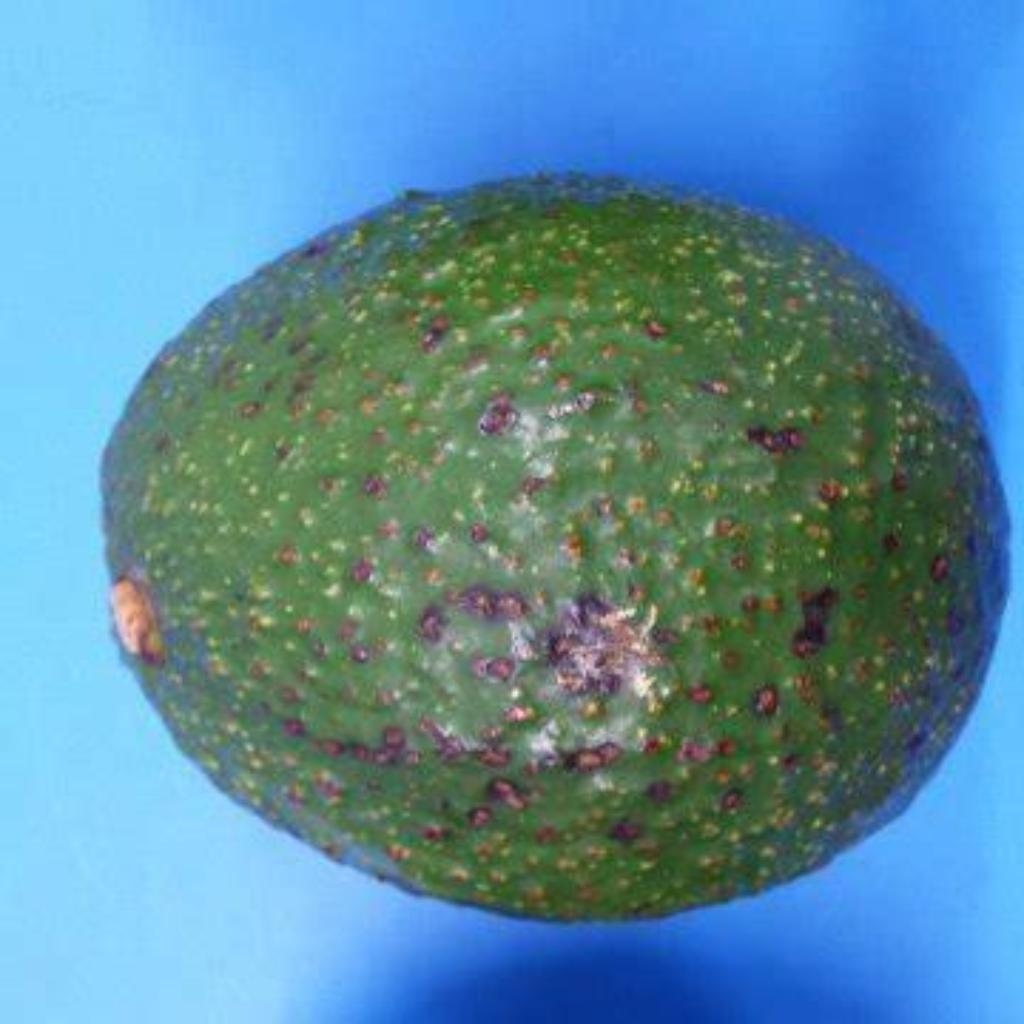Anthracnose: (102, 257, 990, 829)
